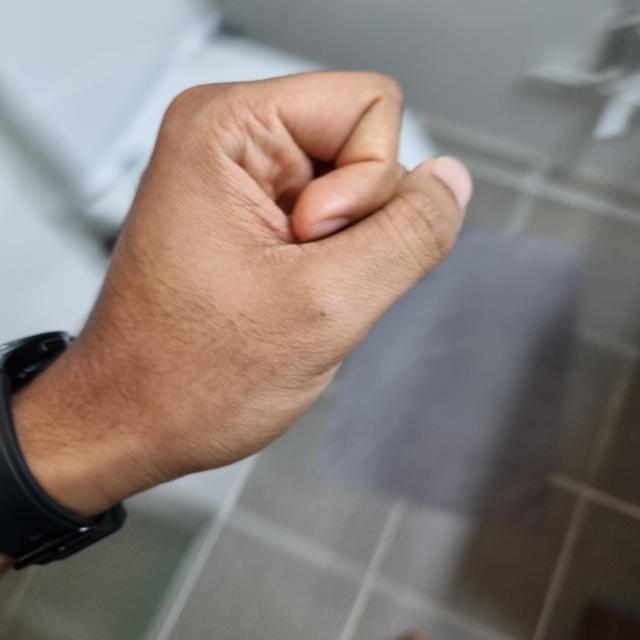Rock: (61, 71, 469, 475)
